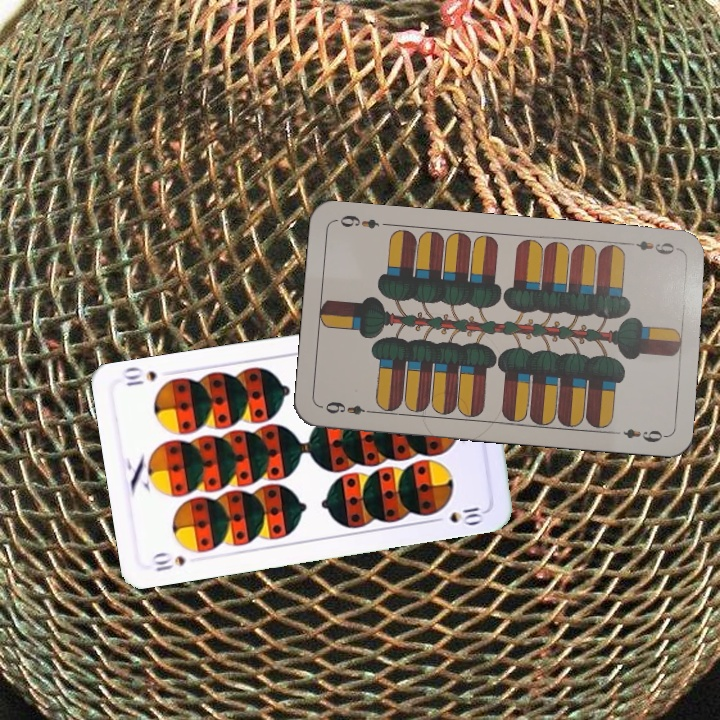E9: (623, 236, 682, 257), (321, 397, 377, 417)
S10: (149, 549, 189, 574)
